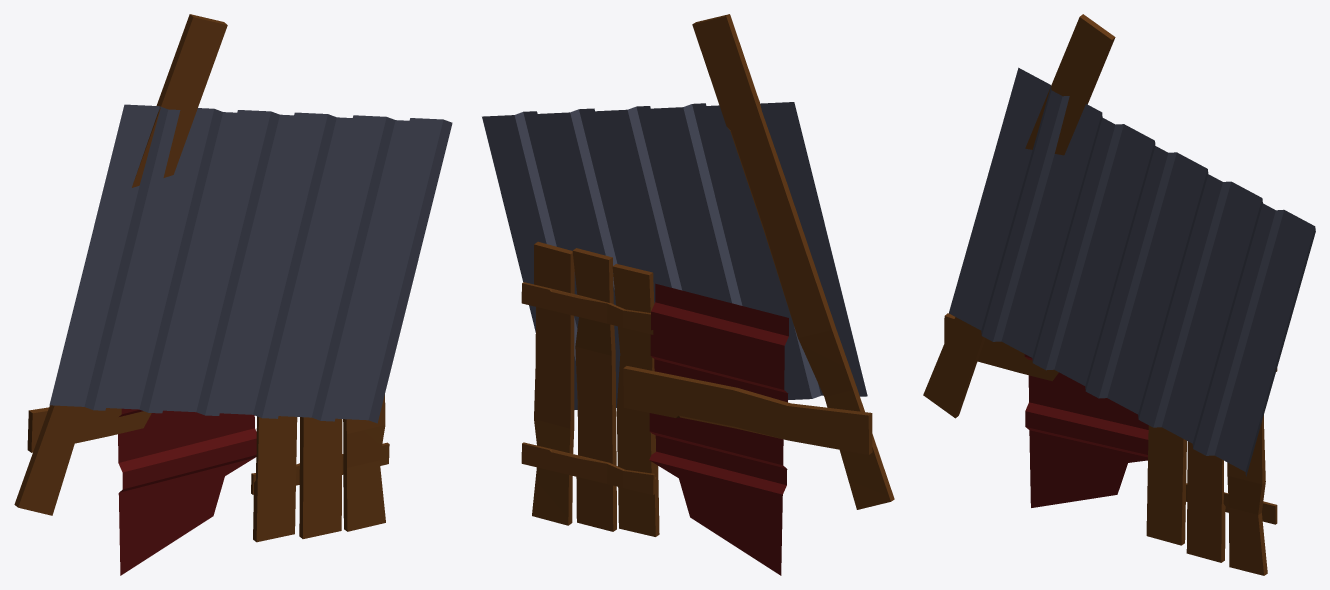
3 views of the same model, side by side, from view 1: azimuth 30°, elevation 25°; view 2: azimuth 150°, elevation 25°; view 3: azimuth 330°, elevation 25° (orthographic). The views are drawn at different scales.
Visible parts, largest first — view 1: Debris_Pile.004_Cube.319; view 2: Debris_Pile.004_Cube.319; view 3: Debris_Pile.004_Cube.319.
Part boxes in pixels (bbox=[...]): Debris_Pile.004_Cube.319: bbox=[14, 14, 452, 575]; Debris_Pile.004_Cube.319: bbox=[482, 14, 894, 575]; Debris_Pile.004_Cube.319: bbox=[923, 14, 1315, 575].
Bounding box in the file's own units: 432 × 535 × 33.33.
